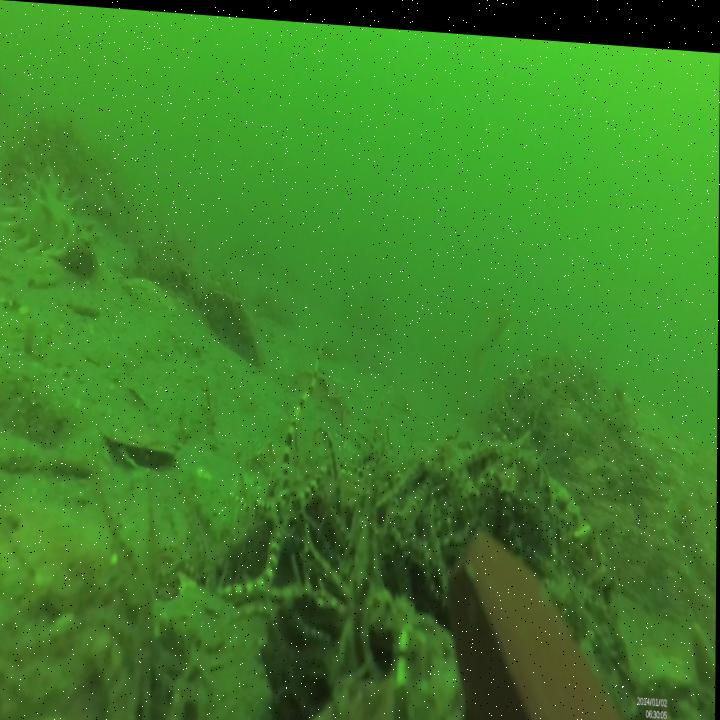holothurian: (0, 163, 101, 279)
scallop: (98, 399, 178, 475)
starfish: (219, 331, 334, 606)
